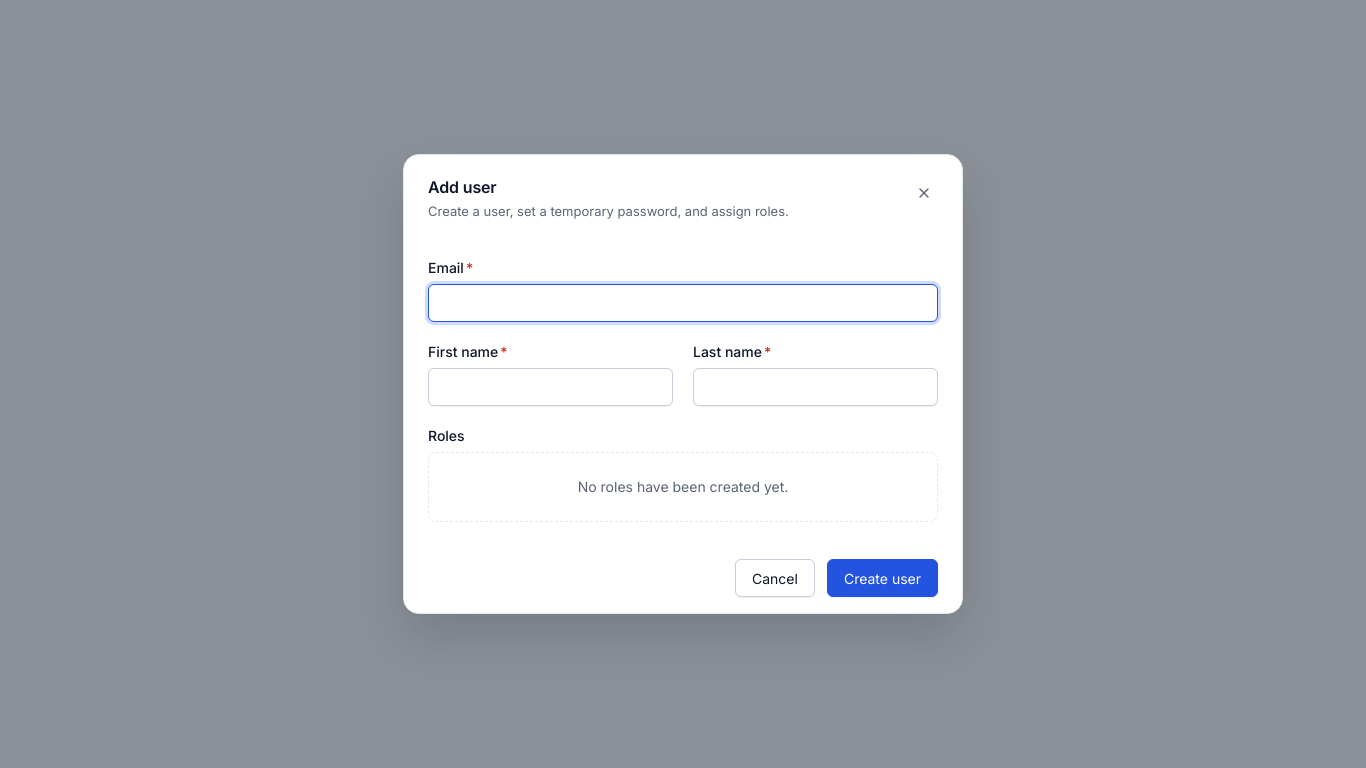
user commands — success feedback › confirms a created user with a toast naming them, beside the credentials
In the field labelled "Email*": (683, 303) left=428, top=284, right=938, bottom=322, type "omar@acco.com"
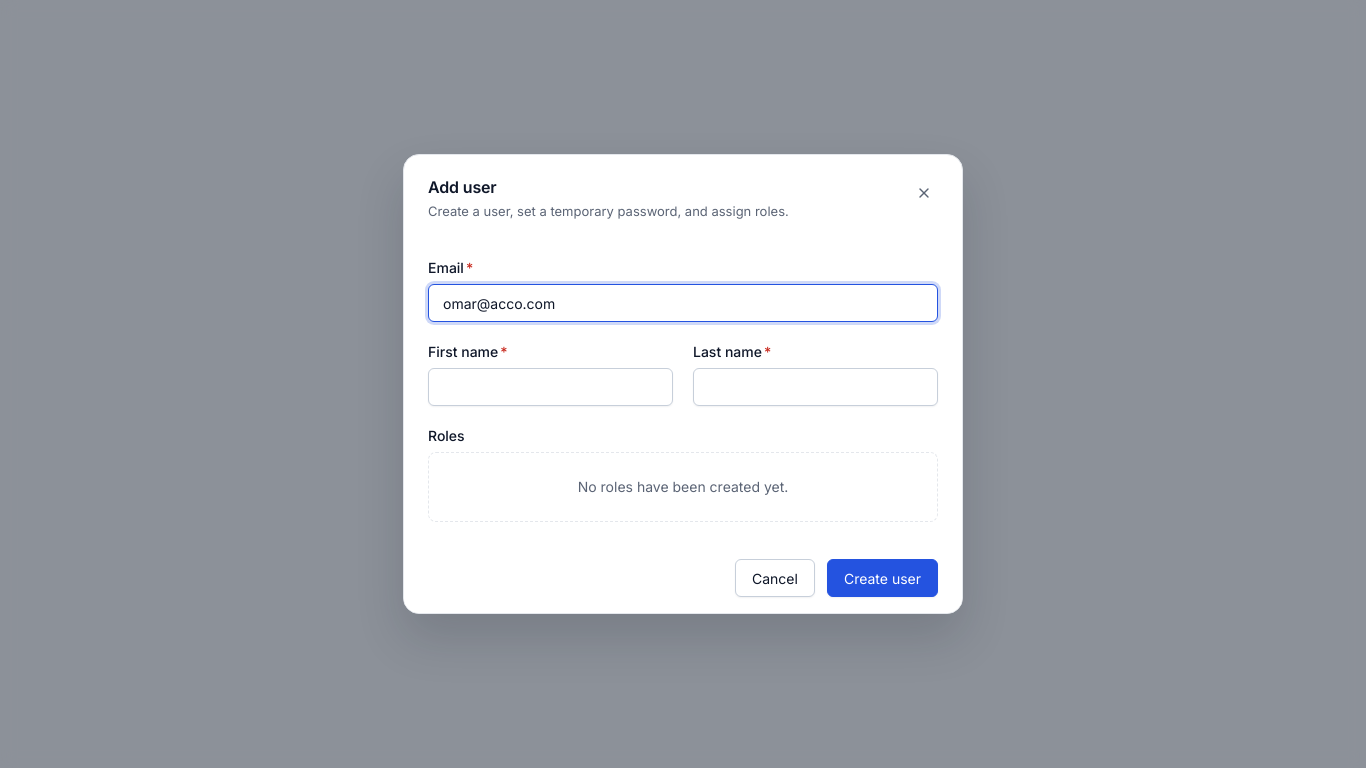
In the field labelled "First name*": (550, 387) left=428, top=368, right=673, bottom=406, type "Omar"
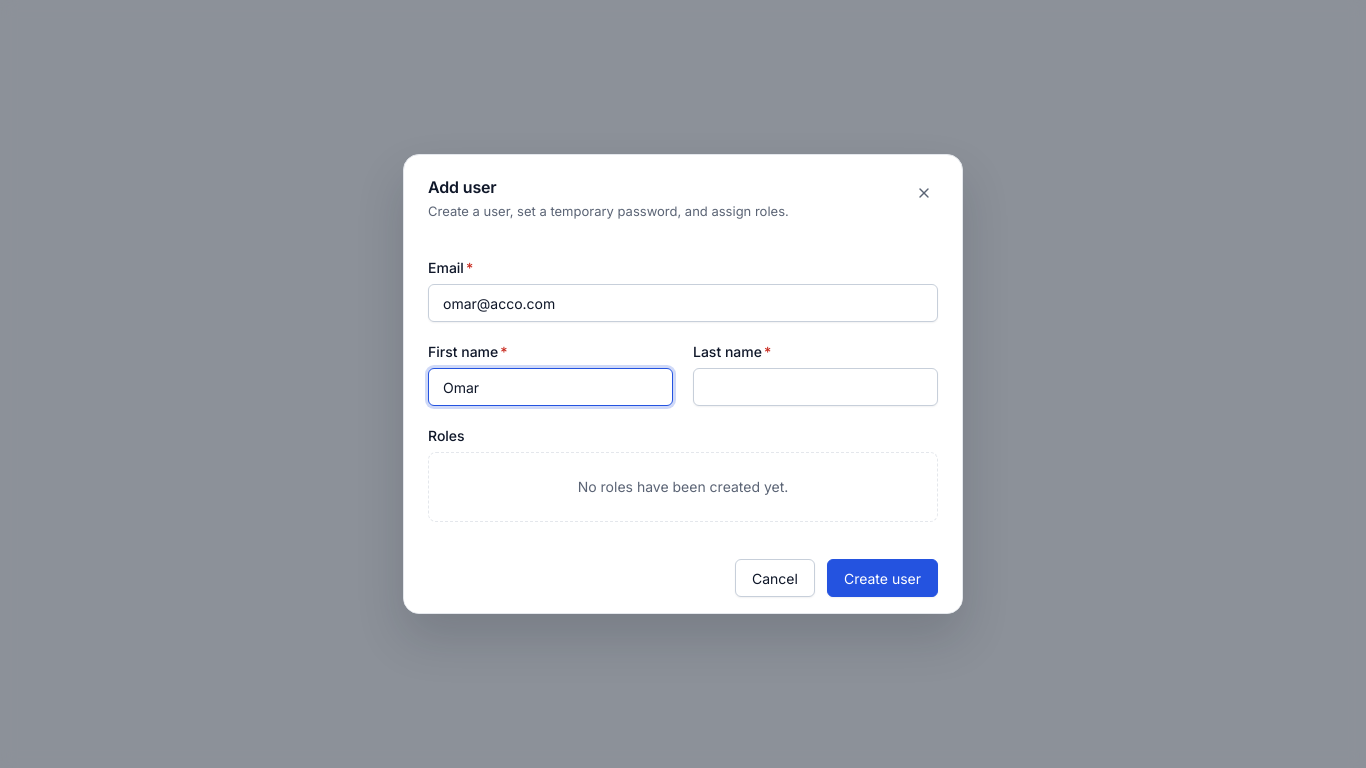
In the field labelled "Last name*": (816, 387) left=693, top=368, right=938, bottom=406, type "Nur"
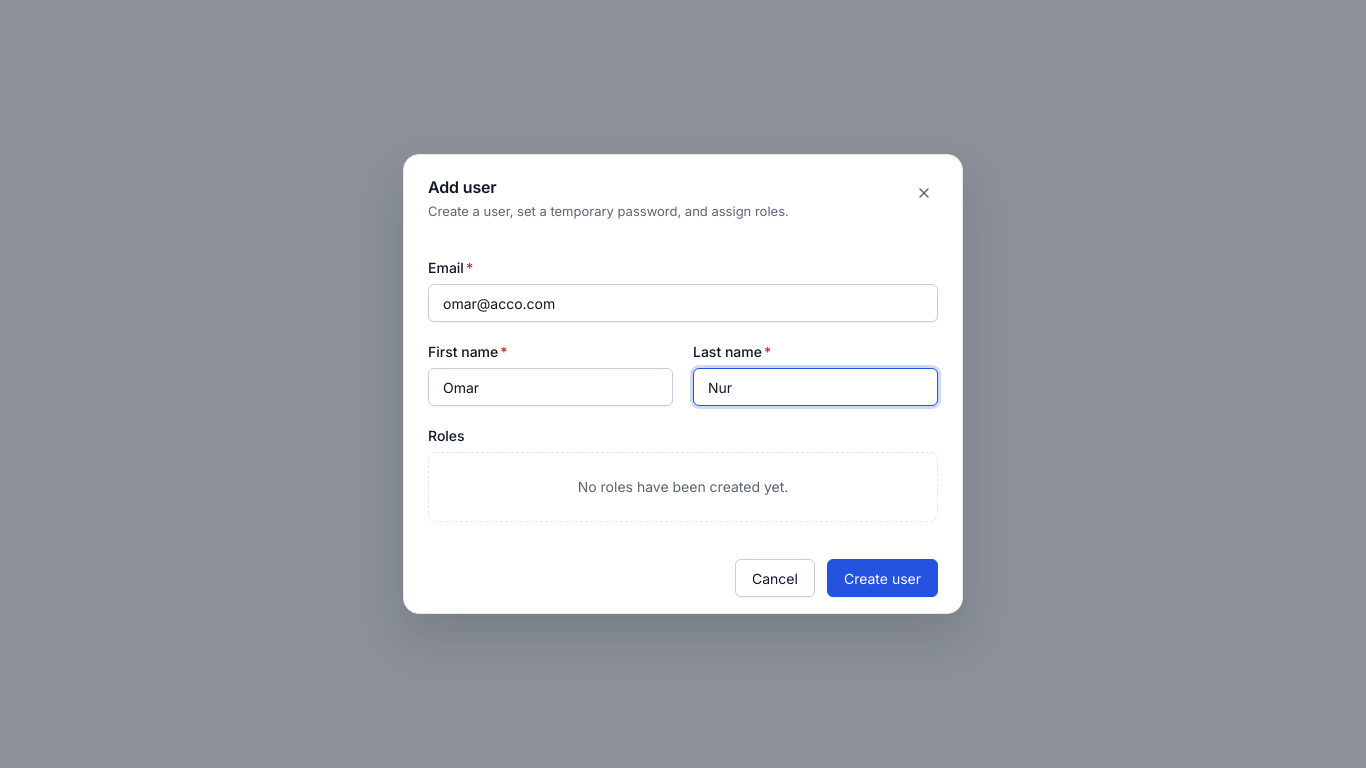
Click the button "Create user": click(882, 578) left=827, top=559, right=938, bottom=597
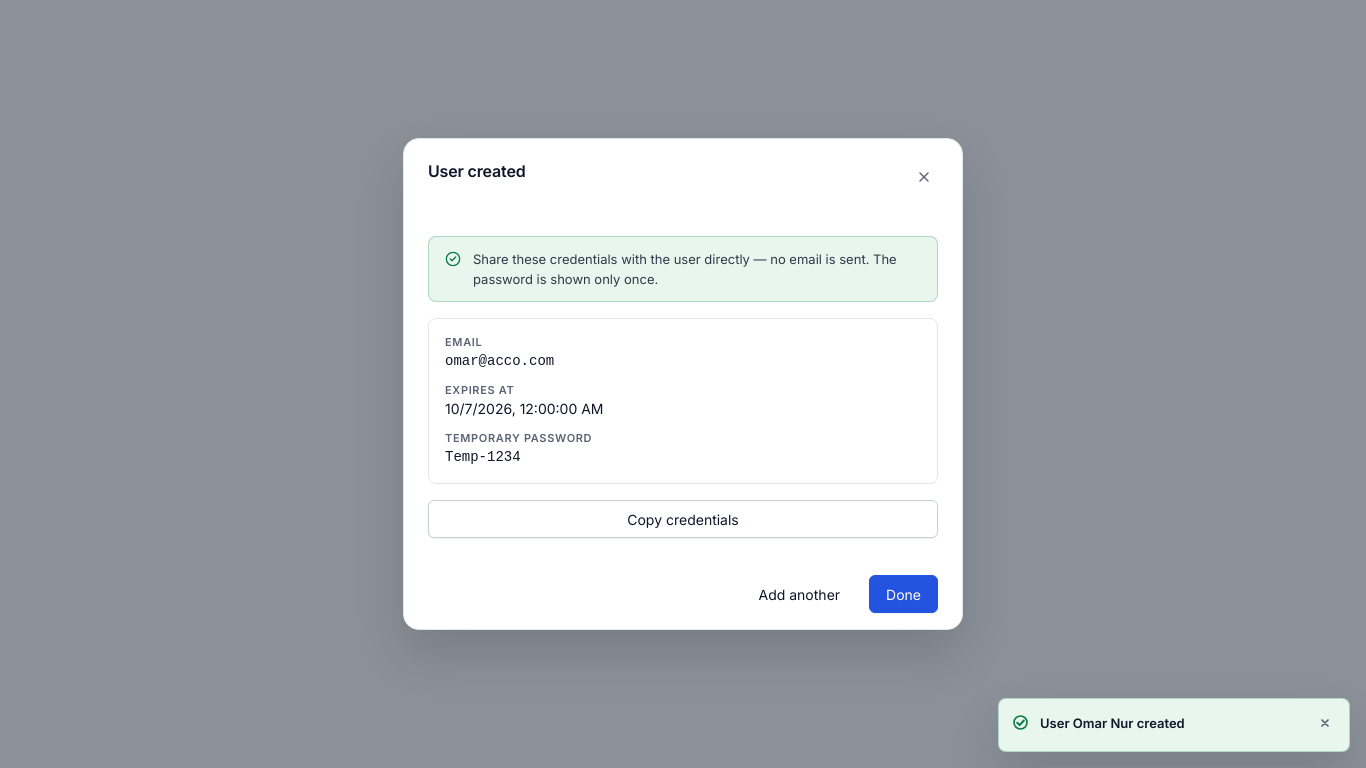
expect the text "User Omar Nur created" is shown: met, box left=1040, top=715, right=1185, bottom=731
